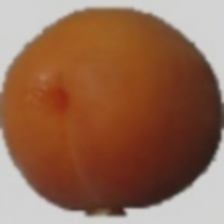apricot: (23, 30, 194, 191)
